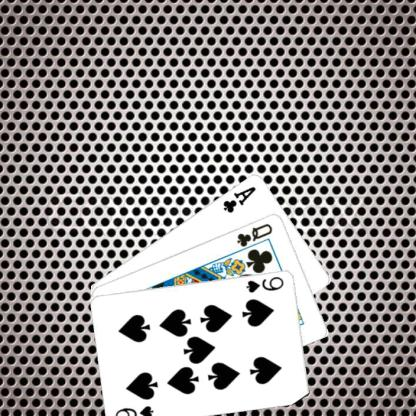9S: (244, 274, 286, 294), (113, 402, 155, 416)
AC: (220, 183, 258, 214)
QC: (234, 220, 274, 248)
